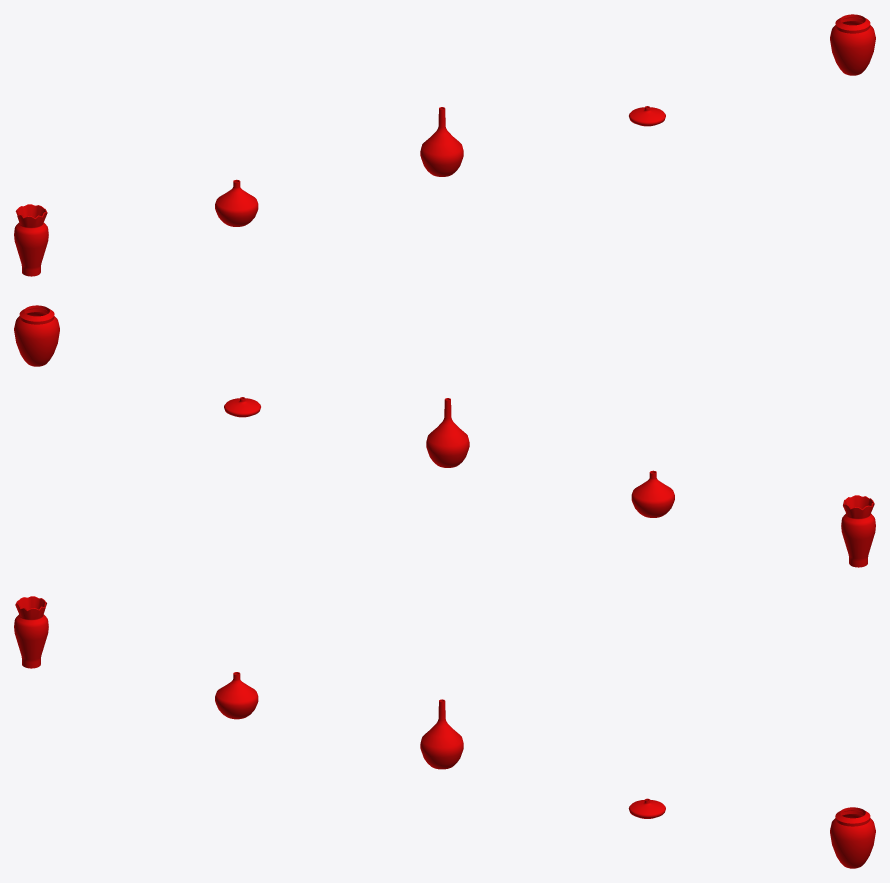
Rendered from vases_grp.fbx.
3 renders of one model, top to bottom at view 1: azimuth 30°, elevation 25°; view 2: azimuth 150°, elevation 25°; view 3: azimuth 330°, elevation 25°, orthographic.
Parts seen in each view (by area): view 1: vase_open, vase_decorative, vase_tall, vase_medium, vase_flat; view 2: vase_open, vase_decorative, vase_tall, vase_medium, vase_flat; view 3: vase_open, vase_decorative, vase_tall, vase_medium, vase_flat.
Boxes of the visible parts, x1,y1,x2,y2 form: vase_open: (830,14,875,75); vase_decorative: (14,204,48,276); vase_tall: (420,107,463,176); vase_medium: (215,179,258,226); vase_flat: (629,106,665,126); vase_open: (14,305,59,366); vase_decorative: (841,495,875,567); vase_tall: (426,398,469,467); vase_medium: (631,470,674,517); vase_flat: (224,397,260,417); vase_open: (830,807,875,868); vase_decorative: (14,596,48,668); vase_tall: (420,699,463,769); vase_medium: (215,672,258,719); vase_flat: (628,798,665,818).
Size of the model in its own units: 417 by 29.85 by 19.5.
